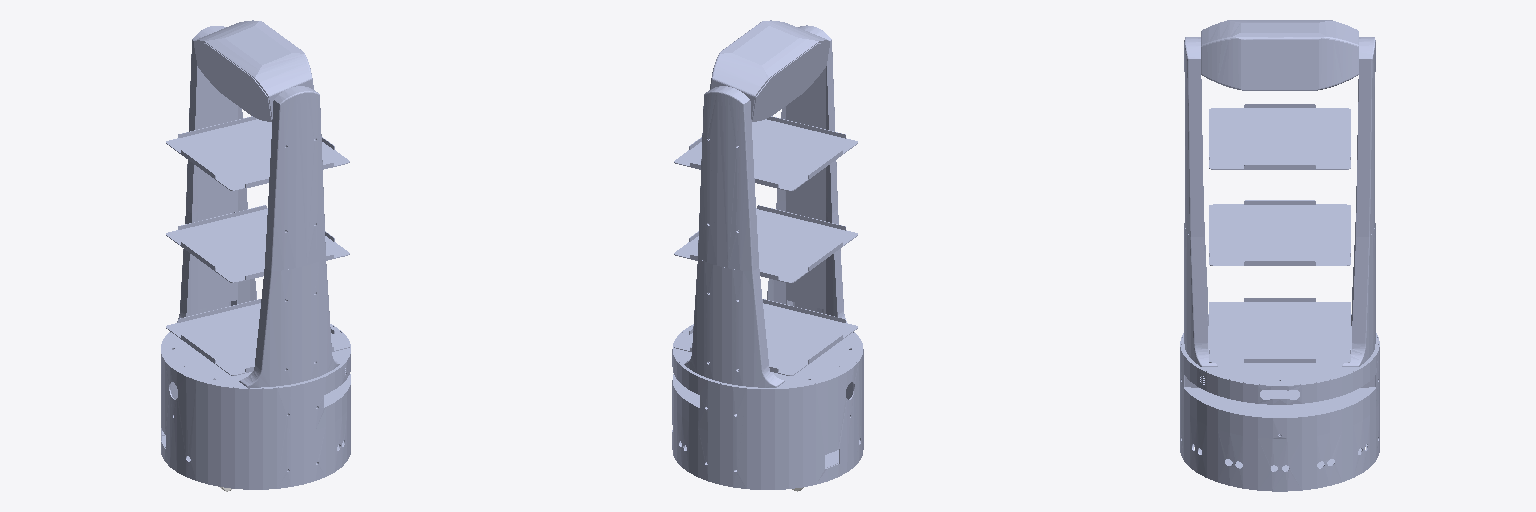
URDF robot description (modelo_robot):
<?xml version="1.0" encoding="utf-8"?>
<!-- This URDF was automatically created by SolidWorks to URDF Exporter! Originally created by [author] ([email redacted]) 
     Commit Version: 1.6.0-1-g15f4949  Build Version: 1.6.7594.29634
     For more information, please see http://wiki.ros.org/sw_urdf_exporter -->
<robot
  name="modelo_robot">
  <link
    name="base_link">
    <inertial>
      <origin
        xyz="0.0114900506700507 6.36785158519674E-05 0.513504388907538"
        rpy="0 0 0" />
      <mass
        value="16.9436747811593" />
      <inertia
        ixx="0.247063125630784"
        ixy="2.48277307026829E-05"
        ixz="-2.34347997712136E-05"
        iyy="0.150149602441472"
        iyz="0.000237802910560565"
        izz="0.30249168558263" />
    </inertial>
    <visual>
      <origin
        xyz="0 0 0"
        rpy="0 0 0" />
      <geometry>
        <mesh
          filename="package://modelo_robot/meshes/base_link.STL" />
      </geometry>
      <material
        name="">
        <color
          rgba="0.792156862745098 0.819607843137255 0.933333333333333 1" />
      </material>
    </visual>
    <collision>
      <origin
        xyz="0 0 0"
        rpy="0 0 0" />
      <geometry>
        <mesh
          filename="package://modelo_robot/meshes/base_link.STL" />
      </geometry>
    </collision>
  </link>
  <link
    name="right_B">
    <inertial>
      <origin
        xyz="-1.75839943795291E-10 0.0291454993186157 7.2715736452178E-06"
        rpy="0 0 0" />
      <mass
        value="0.958024072365839" />
      <inertia
        ixx="0.00158537262920461"
        ixy="-1.10492114018988E-12"
        ixz="-1.05721599399678E-11"
        iyy="0.00270274012080462"
        iyz="-3.83262444785558E-07"
        izz="0.00158540702167189" />
    </inertial>
    <visual>
      <origin
        xyz="0 0 0"
        rpy="0 0 0" />
      <geometry>
        <mesh
          filename="package://modelo_robot/meshes/right_B.STL" />
      </geometry>
      <material
        name="">
        <color
          rgba="0.792156862745098 0.819607843137255 0.933333333333333 1" />
      </material>
    </visual>
    <collision>
      <origin
        xyz="0 0 0"
        rpy="0 0 0" />
      <geometry>
        <mesh
          filename="package://modelo_robot/meshes/right_B.STL" />
      </geometry>
    </collision>
  </link>
  <joint
    name="right_Bj"
    type="continuous">
    <origin
      xyz="0.00032265 -0.1631 0.02427"
      rpy="0 0 0" />
    <parent
      link="base_link" />
    <child
      link="right_B" />
    <axis
      xyz="0 -1 0" />
    <limit
      effort="60"
      velocity="1" />
  </joint>
  <link
    name="left_B">
    <inertial>
      <origin
        xyz="1.75839940963138E-10 -0.0291454993186157 7.2715736451831E-06"
        rpy="0 0 0" />
      <mass
        value="0.958024072365839" />
      <inertia
        ixx="0.00158537262920461"
        ixy="-1.10492115948948E-12"
        ixz="1.05721606134042E-11"
        iyy="0.00270274012080461"
        iyz="3.83262444785617E-07"
        izz="0.00158540702167189" />
    </inertial>
    <visual>
      <origin
        xyz="0 0 0"
        rpy="0 0 0" />
      <geometry>
        <mesh
          filename="package://modelo_robot/meshes/left_B.STL" />
      </geometry>
      <material
        name="">
        <color
          rgba="0.792156862745098 0.819607843137255 0.933333333333333 1" />
      </material>
    </visual>
    <collision>
      <origin
        xyz="0 0 0"
        rpy="0 0 0" />
      <geometry>
        <mesh
          filename="package://modelo_robot/meshes/left_B.STL" />
      </geometry>
    </collision>
  </link>
  <joint
    name="left_Bj"
    type="continuous">
    <origin
      xyz="0.00032265 0.16364 0.02427"
      rpy="0 0 0" />
    <parent
      link="base_link" />
    <child
      link="left_B" />
    <axis
      xyz="0 -1 0" />
    <limit
      effort="60"
      velocity="1" />
  </joint>
  <link
    name="front_R">
    <inertial>
      <origin
        xyz="-1.5404344466674E-15 -0.240499920739368 1.56819002228303E-15"
        rpy="0 0 0" />
      <mass
        value="0.0164655807326482" />
      <inertia
        ixx="1.78458409516887E-06"
        ixy="-1.05000235644541E-22"
        ixz="9.37110654139334E-24"
        iyy="2.97719203445308E-06"
        iyz="8.19310032999411E-21"
        izz="1.78458409516887E-06" />
    </inertial>
    <visual>
      <origin
        xyz="0 0 0"
        rpy="0 0 0" />
      <geometry>
        <mesh
          filename="package://modelo_robot/meshes/front_R.STL" />
      </geometry>
      <material
        name="">
        <color
          rgba="1 1 1 1" />
      </material>
    </visual>
    <collision>
      <origin
        xyz="0 0 0"
        rpy="0 0 0" />
      <geometry>
        <mesh
          filename="package://modelo_robot/meshes/front_R.STL" />
      </geometry>
    </collision>
  </link>
  <joint
    name="front_Rj"
    type="continuous">
    <origin
      xyz="0.11166 0.12299 -0.035998"
      rpy="0 0 0" />
    <parent
      link="base_link" />
    <child
      link="front_R" />
    <axis
      xyz="0 -1 0" />
    <limit
      effort="60"
      velocity="1" />
  </joint>
  <link
    name="rear_R">
    <inertial>
      <origin
        xyz="-0.256985923423425 -0.240499920739366 6.73072708679001E-16"
        rpy="0 0 0" />
      <mass
        value="0.0164655807326482" />
      <inertia
        ixx="1.78458409516887E-06"
        ixy="-8.56332754184663E-23"
        ixz="1.98851957435753E-24"
        iyy="2.97719203445308E-06"
        iyz="8.19036450114429E-21"
        izz="1.78458409516887E-06" />
    </inertial>
    <visual>
      <origin
        xyz="0 0 0"
        rpy="0 0 0" />
      <geometry>
        <mesh
          filename="package://modelo_robot/meshes/rear_R.STL" />
      </geometry>
      <material
        name="">
        <color
          rgba="1 1 1 1" />
      </material>
    </visual>
    <collision>
      <origin
        xyz="0 0 0"
        rpy="0 0 0" />
      <geometry>
        <mesh
          filename="package://modelo_robot/meshes/rear_R.STL" />
      </geometry>
    </collision>
  </link>
  <joint
    name="rear_Rj"
    type="continuous">
    <origin
      xyz="0.11166 0.12299 -0.035998"
      rpy="0 0 0" />
    <parent
      link="base_link" />
    <child
      link="rear_R" />
    <axis
      xyz="0 -1 0" />
    <limit
      effort="60"
      velocity="1" />
  </joint>
  <link
    name="front_L">
    <inertial>
      <origin
        xyz="1.2490009027033E-16 -0.00750000000000012 -5.55111512312578E-17"
        rpy="0 0 0" />
      <mass
        value="0.0164655807326482" />
      <inertia
        ixx="1.78458409516887E-06"
        ixy="-1.05000235644541E-22"
        ixz="9.37110654139334E-24"
        iyy="2.97719203445308E-06"
        iyz="8.19310032999411E-21"
        izz="1.78458409516887E-06" />
    </inertial>
    <visual>
      <origin
        xyz="0 0 0"
        rpy="0 0 0" />
      <geometry>
        <mesh
          filename="package://modelo_robot/meshes/front_L.STL" />
      </geometry>
      <material
        name="">
        <color
          rgba="1 1 1 1" />
      </material>
    </visual>
    <collision>
      <origin
        xyz="0 0 0"
        rpy="0 0 0" />
      <geometry>
        <mesh
          filename="package://modelo_robot/meshes/front_L.STL" />
      </geometry>
    </collision>
  </link>
  <joint
    name="front_Lj"
    type="fixed">
    <origin
      xyz="0.11166 0.12299 -0.035998"
      rpy="0 0 0" />
    <parent
      link="base_link" />
    <child
      link="front_L" />
    <axis
      xyz="0 0 0" />
    <limit
      effort="60"
      velocity="1" />
  </joint>
  <link
    name="rear_L">
    <inertial>
      <origin
        xyz="-0.256985923423423 -0.00749999999999826 -9.57567358739198E-16"
        rpy="0 0 0" />
      <mass
        value="0.0164655807326482" />
      <inertia
        ixx="1.78458409516887E-06"
        ixy="-8.56332754184662E-23"
        ixz="1.98851957435753E-24"
        iyy="2.97719203445308E-06"
        iyz="8.19036450114429E-21"
        izz="1.78458409516887E-06" />
    </inertial>
    <visual>
      <origin
        xyz="0 0 0"
        rpy="0 0 0" />
      <geometry>
        <mesh
          filename="package://modelo_robot/meshes/rear_L.STL" />
      </geometry>
      <material
        name="">
        <color
          rgba="1 1 1 1" />
      </material>
    </visual>
    <collision>
      <origin
        xyz="0 0 0"
        rpy="0 0 0" />
      <geometry>
        <mesh
          filename="package://modelo_robot/meshes/rear_L.STL" />
      </geometry>
    </collision>
  </link>
  <joint
    name="rear_Lj"
    type="continuous">
    <origin
      xyz="0.11166 0.12299 -0.035998"
      rpy="0 0 0" />
    <parent
      link="base_link" />
    <child
      link="rear_L" />
    <axis
      xyz="0 -1 0" />
    <limit
      effort="60"
      velocity="1" />
  </joint>
</robot>

--- What the picture shows (computed from the rendered views, not written in the file) ---
Views: 3 orthographic renders of the robot side by side, from view 1: azimuth 30°, elevation 25°; view 2: azimuth 150°, elevation 25°; view 3: azimuth 270°, elevation 25°.
Model modelo_robot with 7 links and 6 joints (5 continuous, 1 fixed), rooted at base_link, posed all joints at 0.
Links seen in each view (by area): view 1: base_link; view 2: base_link; view 3: base_link.
Boxes of the visible links, bbox=[...] form: base_link: bbox=[161, 20, 350, 489]; base_link: bbox=[672, 20, 863, 489]; base_link: bbox=[1180, 20, 1379, 491].
Size in the robot's own frame: 0.45 by 0.45 by 1.08 metres.
Meshes: 7 distinct files referenced, 7 mesh visuals loaded (7 binary STL).